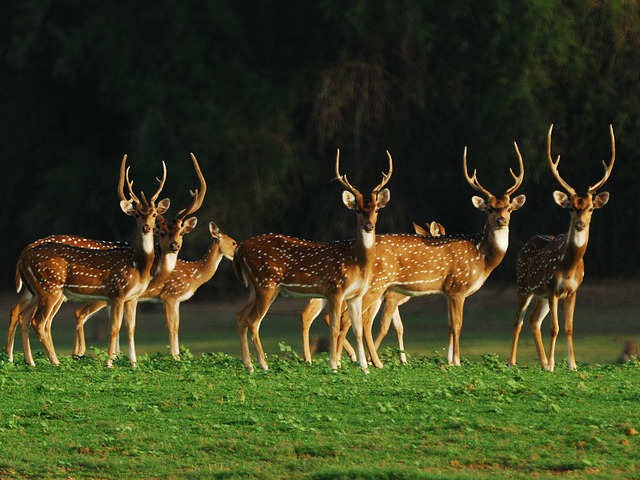deer: (5, 144, 163, 363), (241, 142, 390, 374), (397, 137, 528, 363), (530, 114, 626, 375), (160, 148, 206, 358), (199, 211, 233, 279)
